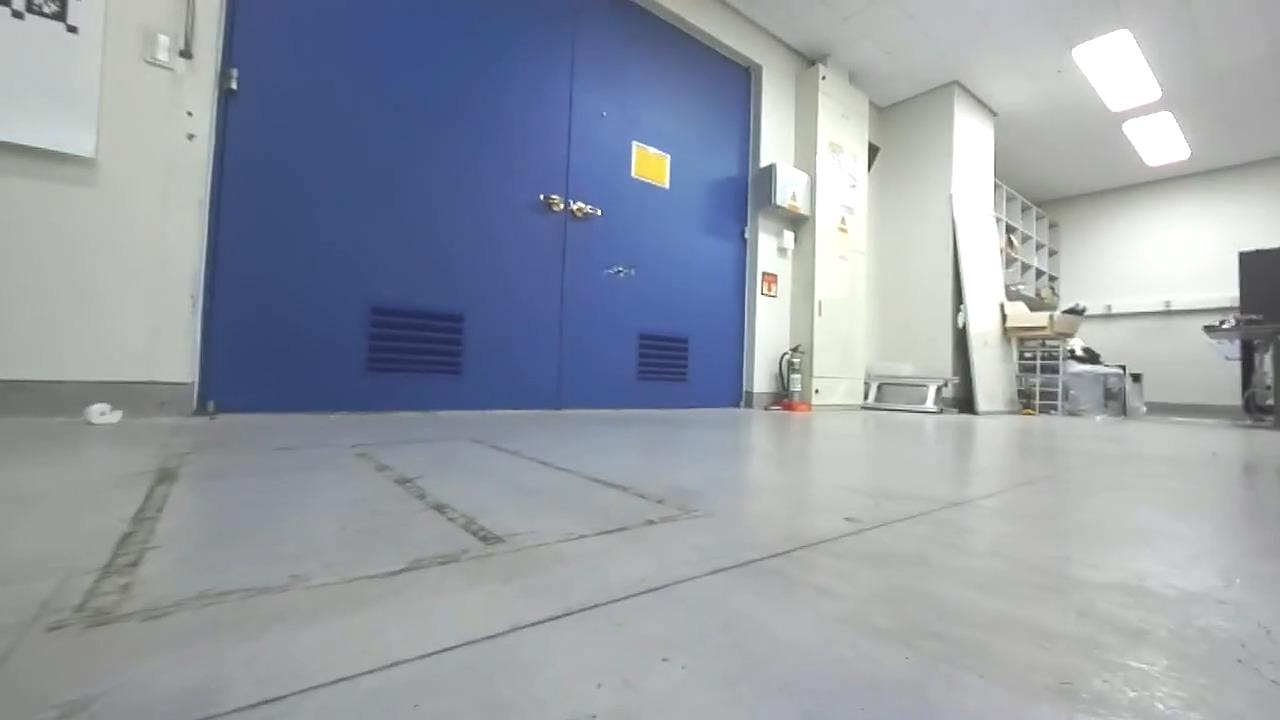crazyflie: (598, 260, 640, 282)
